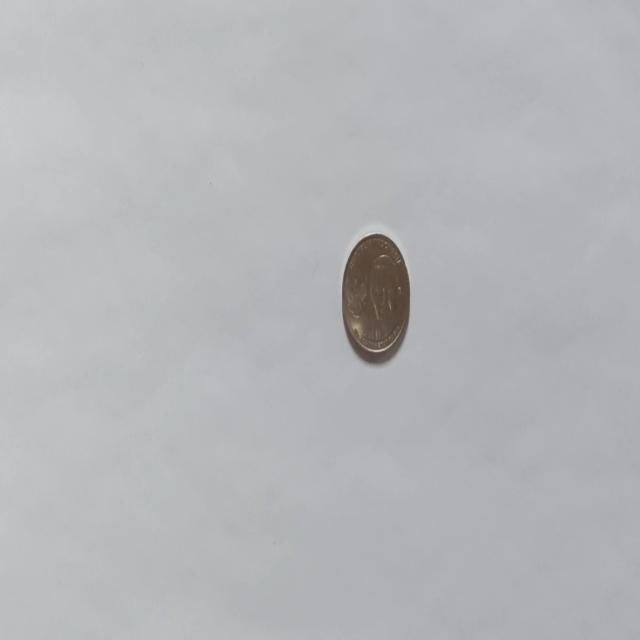seribu rupiah koin: (341, 228, 412, 359)
